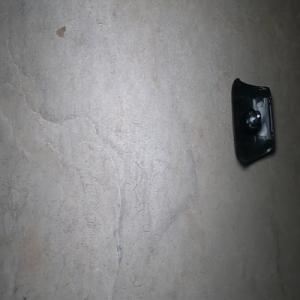LuggagePart: (230, 76, 275, 167)
